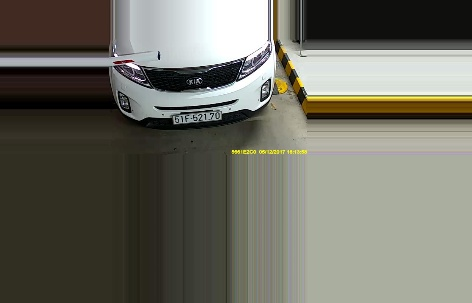plate: (171, 107, 222, 124)
